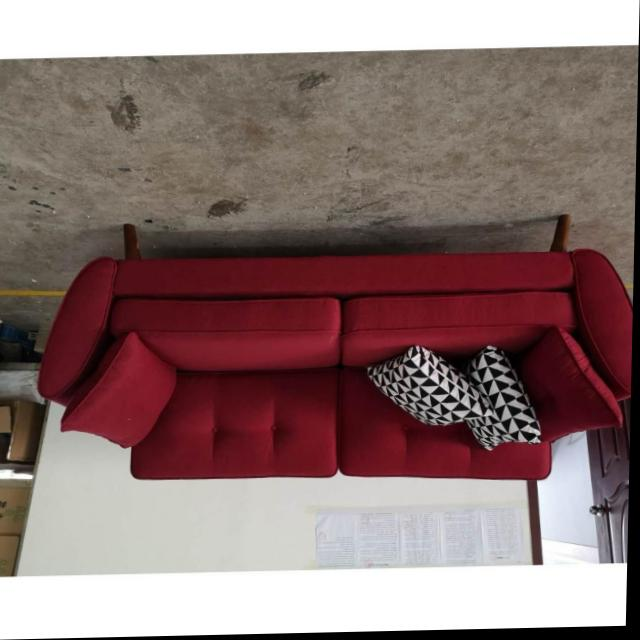Sofa: (37, 212, 636, 493)
